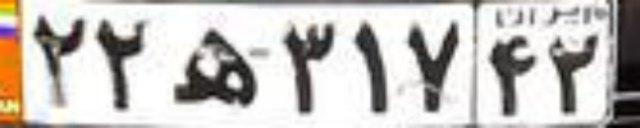1: (350, 19, 396, 113)
2: (27, 15, 85, 106), (94, 17, 149, 108), (546, 33, 602, 114)
3: (282, 21, 335, 113)
4: (486, 33, 538, 114)
7: (403, 19, 464, 114)
ye: (167, 27, 257, 106)
